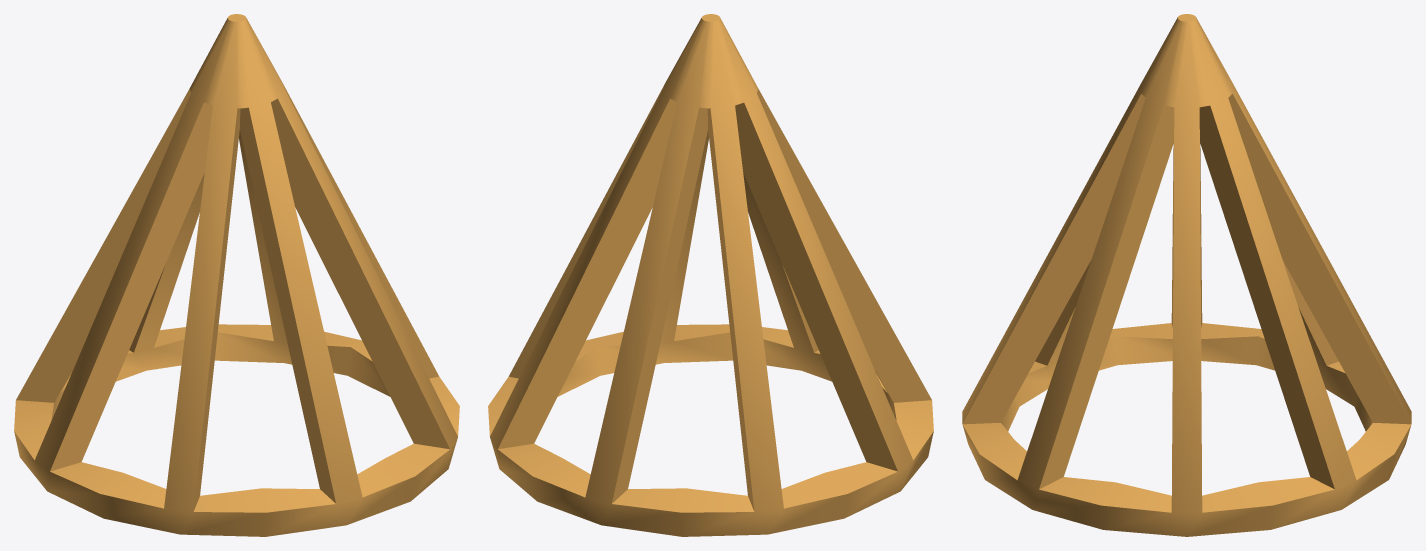
File: ConeMesh_01.fbx
The picture shows the model from 3 angles, left to right: view 1: azimuth 30°, elevation 25°; view 2: azimuth 150°, elevation 25°; view 3: azimuth 270°, elevation 25°; orthographic projection.
Parts seen in each view (by area): view 1: ConeMesh_01; view 2: ConeMesh_01; view 3: ConeMesh_01.
Part boxes in pixels (x1,y1,x2,y2): ConeMesh_01: [14, 14, 459, 536]; ConeMesh_01: [488, 14, 933, 536]; ConeMesh_01: [962, 14, 1411, 536].
Size of the model in its own units: 290 by 304 by 290.
